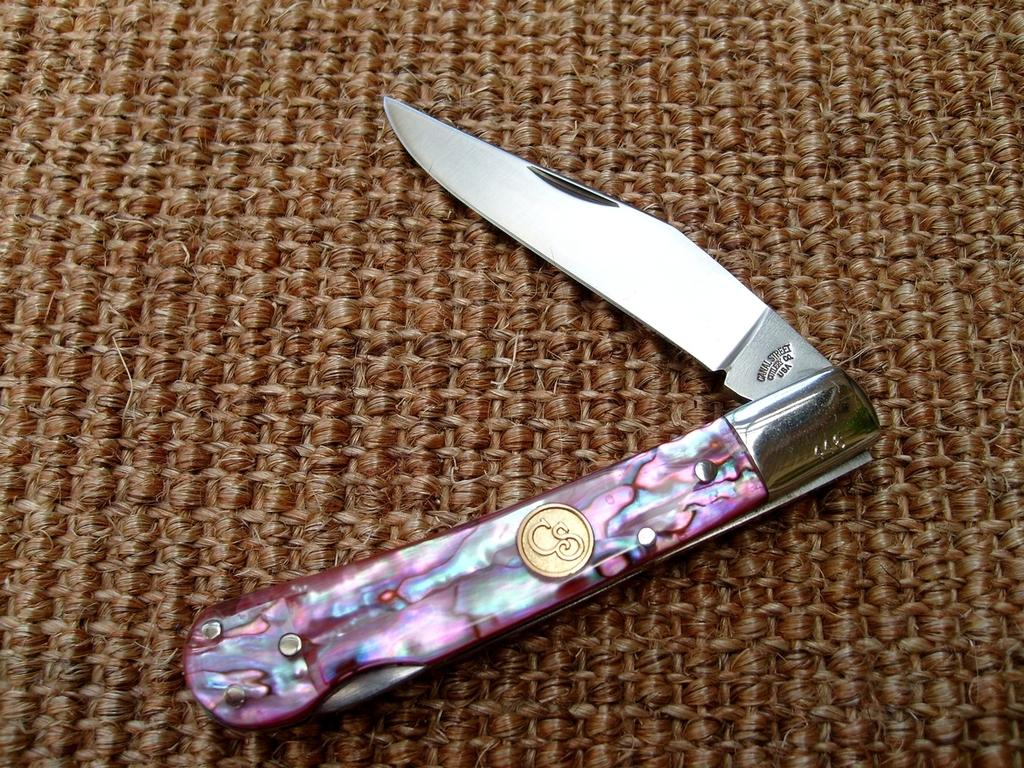Knife: (184, 90, 883, 742)
